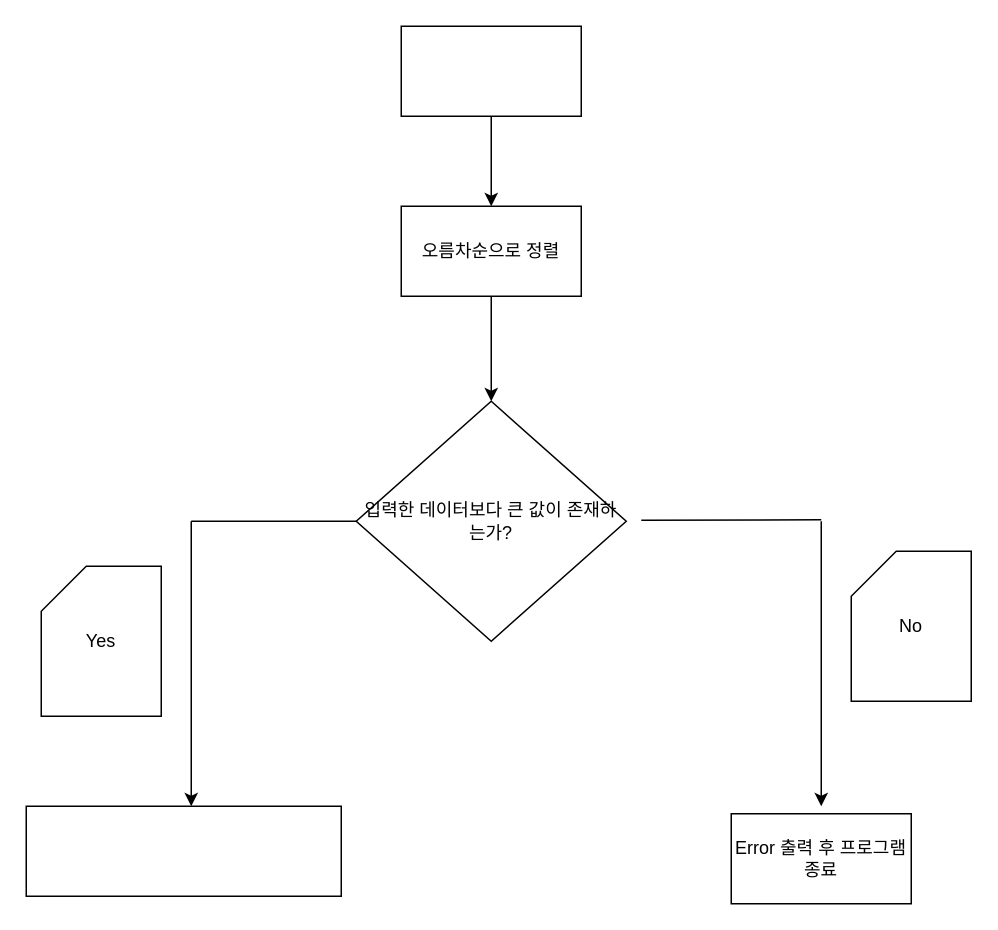
The diagram is 998 pixels wide and 930 high, and some of its shapes have lost their labels. The shapes that lost their labels are listed below. From the top down, each one's centre as x and y in pixels, then its label:
the point at 490,70: 데이터 입력받음
the point at 183,850: Binary Search 알고리즘 사용하여 입력한 데이터보다 큰 값을 출력
